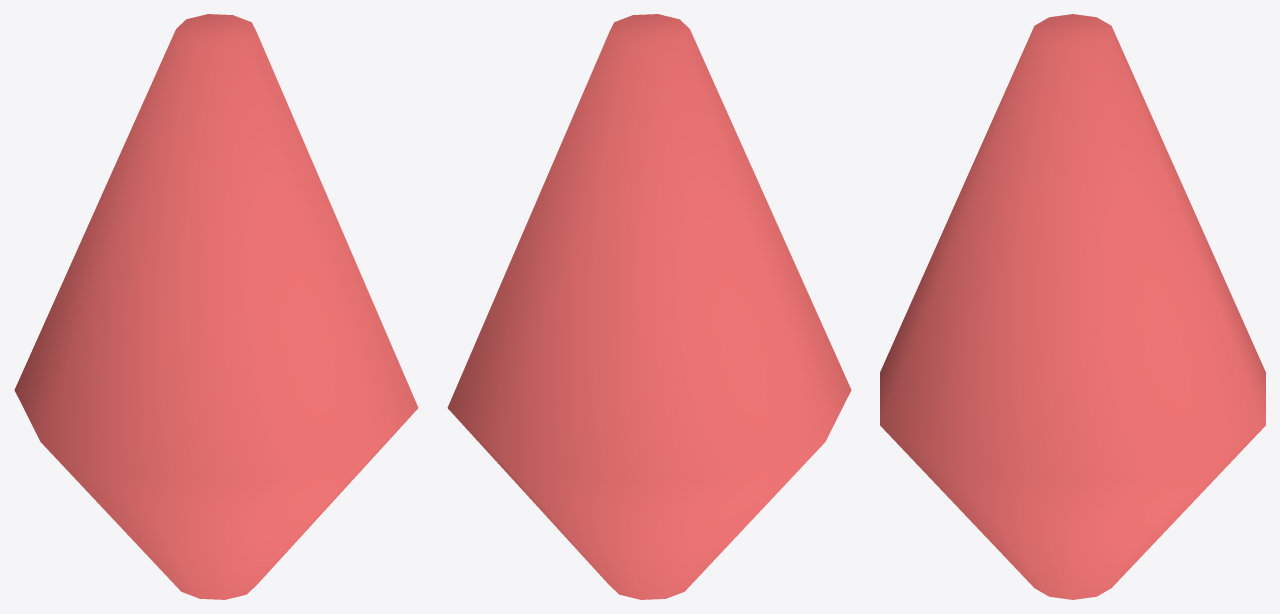
The model's file is 04_pin.glb.
3 views of the same model, side by side, from view 1: azimuth 30°, elevation 25°; view 2: azimuth 150°, elevation 25°; view 3: azimuth 270°, elevation 25° (orthographic).
Visible parts, largest first — view 1: generic_04_pin; view 2: generic_04_pin; view 3: generic_04_pin.
Boxes of the visible parts, <box> form: generic_04_pin: <box>14,14,418,599</box>; generic_04_pin: <box>447,14,851,599</box>; generic_04_pin: <box>880,14,1265,599</box>.
Bounding box in the file's own units: 0.2 × 0.302 × 0.1902.
